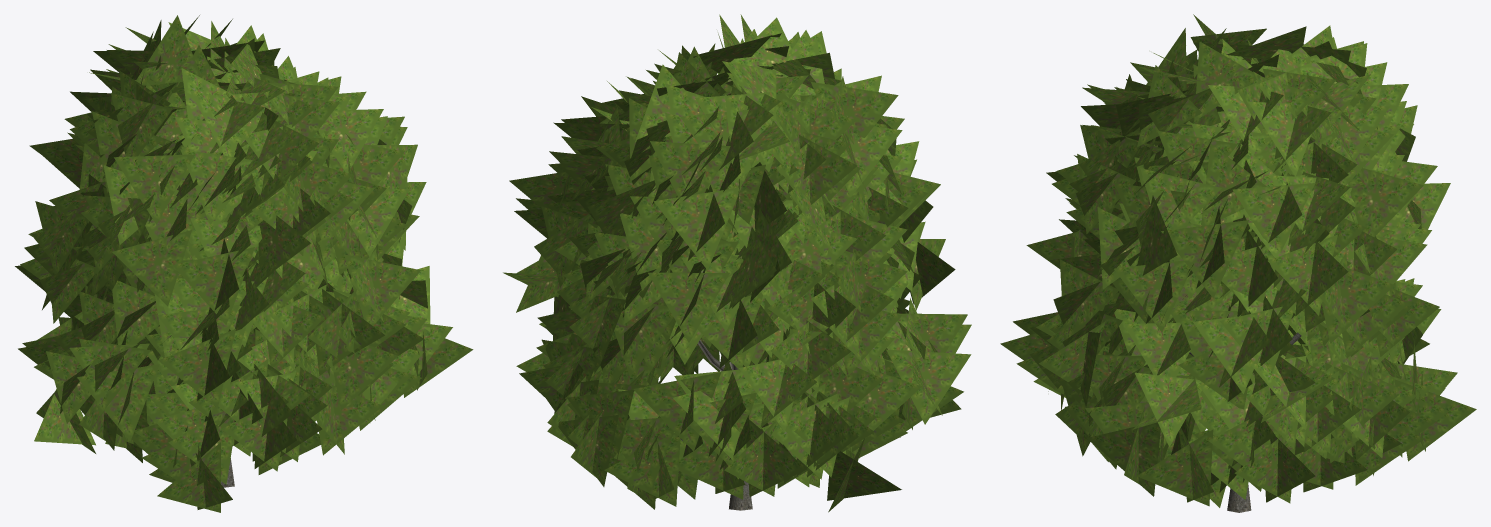
File: Ulmus_Minor_Spring_Young.glb
The picture shows the model from 3 angles, left to right: view 1: azimuth 30°, elevation 25°; view 2: azimuth 150°, elevation 25°; view 3: azimuth 270°, elevation 25°; orthographic projection. The views are drawn at different scales.
Visible parts, largest first — view 1: Ulmus_Minor_Spring_Young__LOD3; view 2: Ulmus_Minor_Spring_Young__LOD3; view 3: Ulmus_Minor_Spring_Young__LOD3.
Boxes of the visible parts, left/top/right/bottom form: Ulmus_Minor_Spring_Young__LOD3: left=15, top=15, right=473, bottom=512; Ulmus_Minor_Spring_Young__LOD3: left=503, top=14, right=971, bottom=512; Ulmus_Minor_Spring_Young__LOD3: left=1000, top=14, right=1476, bottom=512.
Size of the model in its own units: 12.35 by 13.5 by 12.3.
2 materials, 2 textured.
